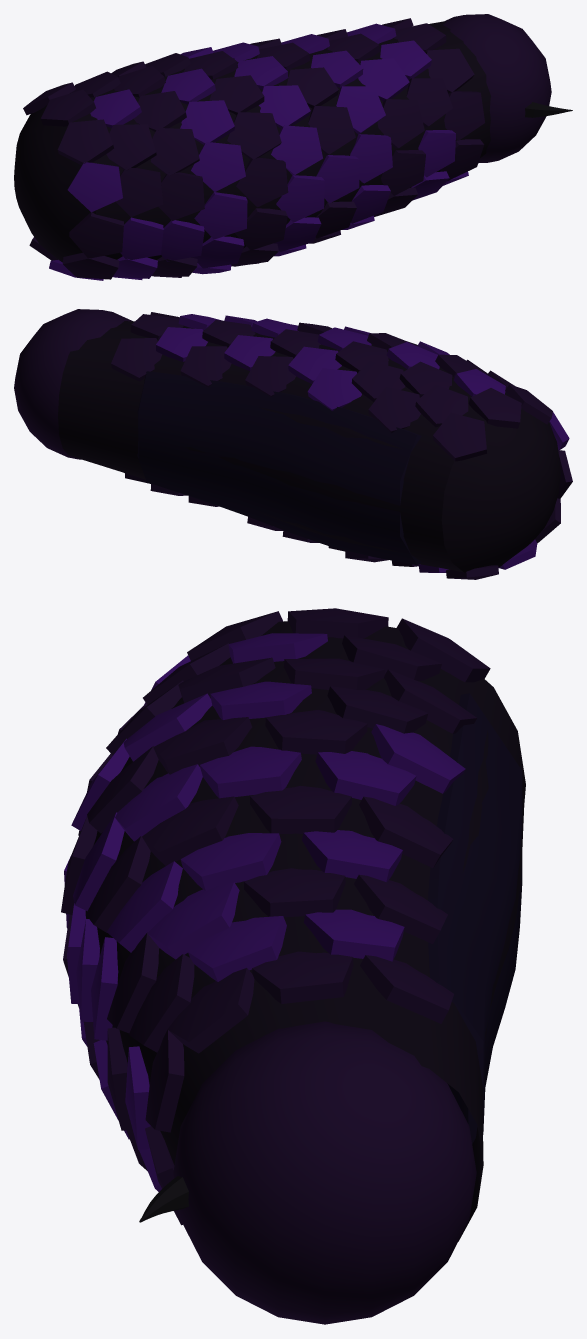
Rendered from femur.obj.
The picture shows the model from 3 angles, top to bottom: view 1: azimuth 30°, elevation 25°; view 2: azimuth 150°, elevation 25°; view 3: azimuth 270°, elevation 25°; orthographic projection. The views are drawn at different scales.
Visible parts, largest first — view 1: femur; view 2: femur; view 3: femur.
Part boxes in pixels (x1,y1,x2,y2): femur: (14,14,572,280); femur: (14,309,572,579); femur: (61,608,525,1324).
Size of the model in its own units: 0.1375 by 0.0499 by 0.0541.
